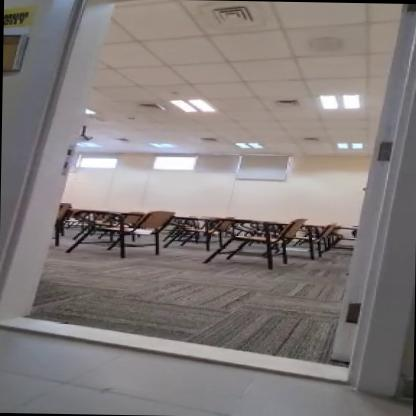open: (0, 0, 397, 386)
